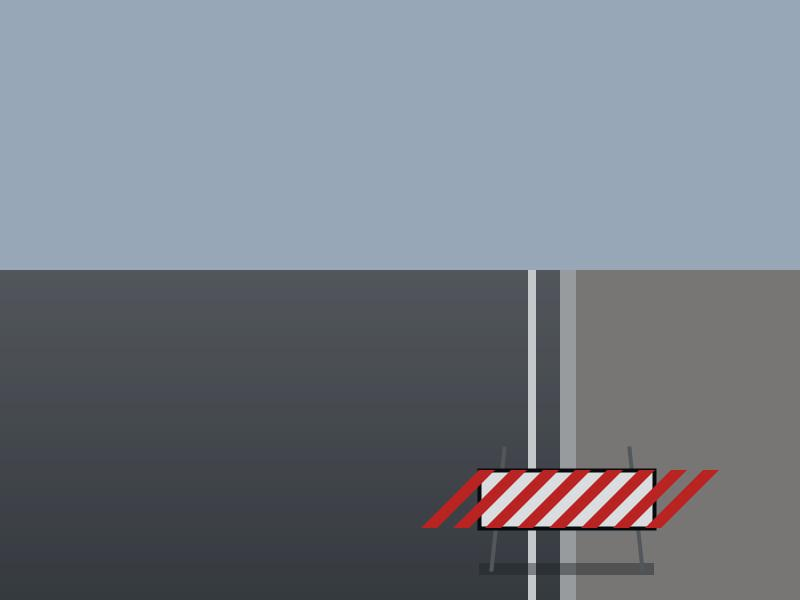ROAD_OBSTACLE: (479, 438, 654, 569)
